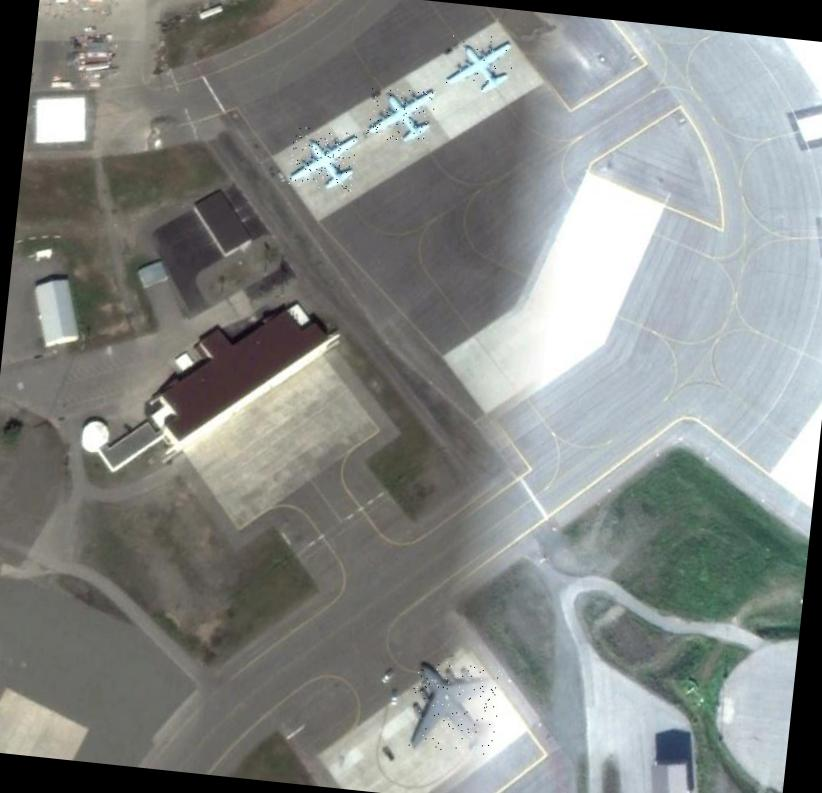A2: (444, 32, 516, 94), (364, 84, 438, 144), (289, 126, 358, 190)
A3: (406, 658, 504, 756)
